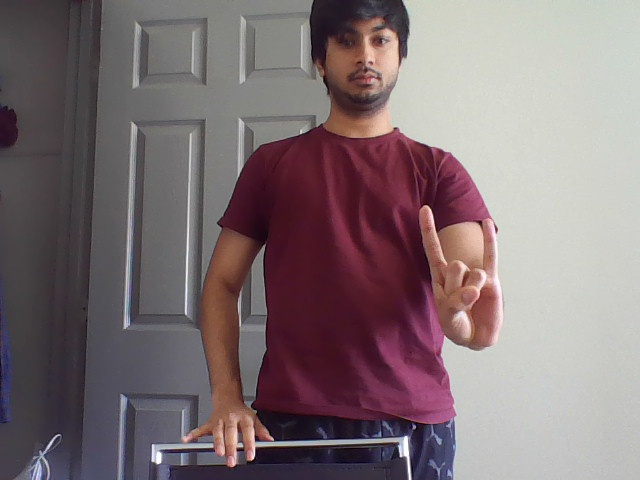help: (410, 199, 512, 297)
